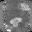people: (9, 17, 22, 28)
